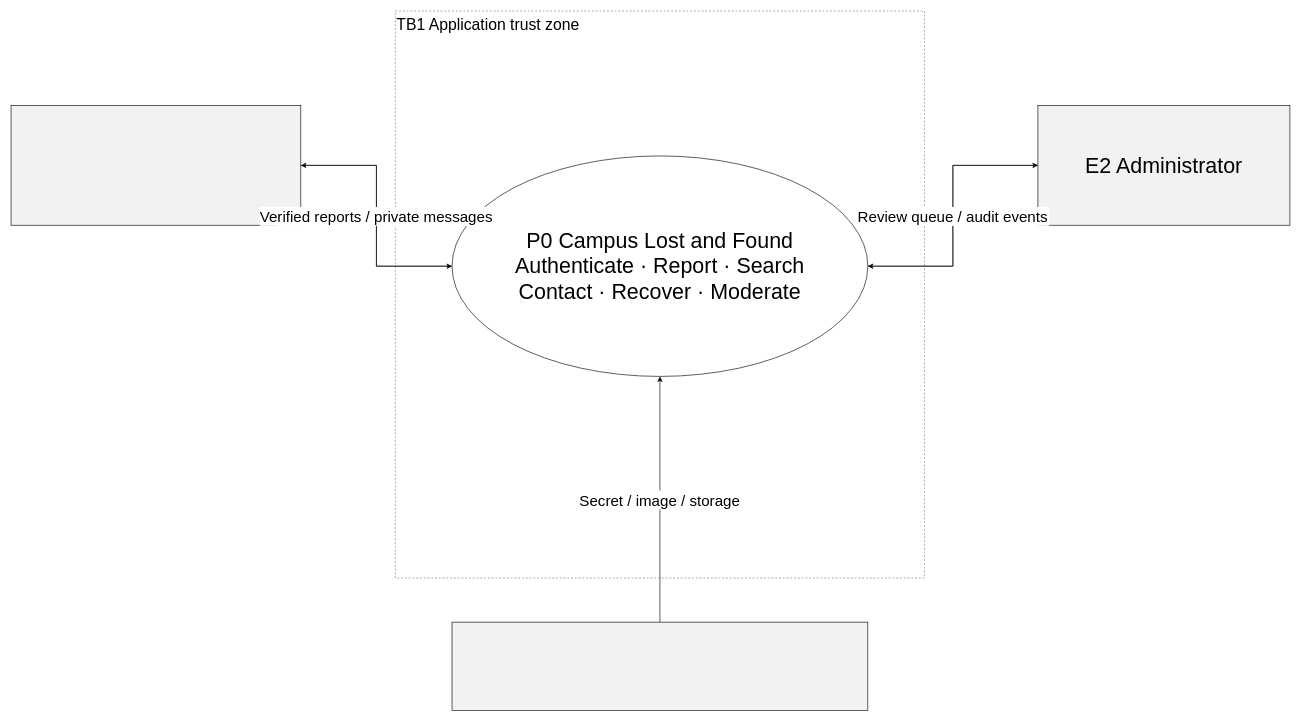
This 1301x721 diagram has some shape labels left out. The shapes that lost their labels are listed below. From the top down, each one's centre as x and y in pixels, then its label:
At [155,165]: "E1 Campus user Student / Faculty".
At [659,665]: "E3 Operator Deployment and backup".
